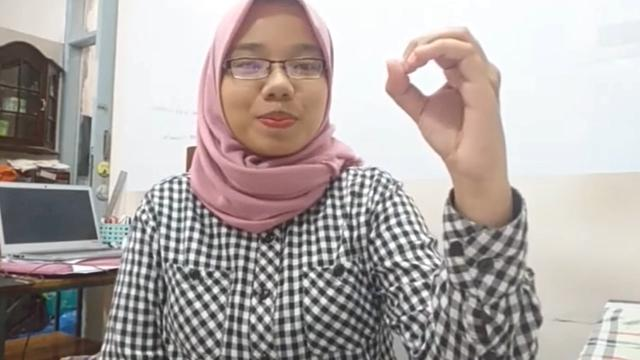O: (383, 21, 503, 172)
